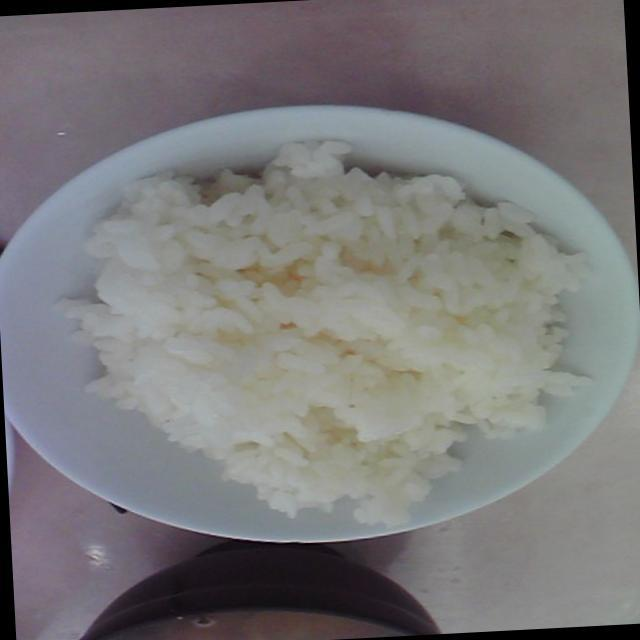Rice: (86, 150, 581, 516)
